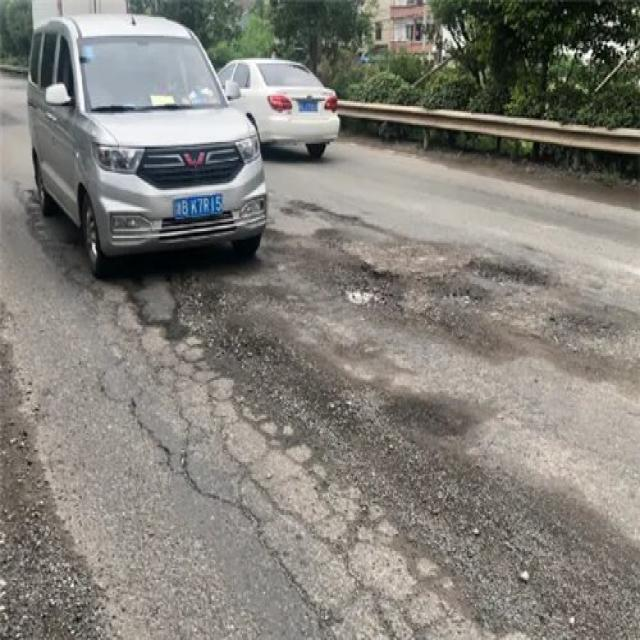Pothole: (170, 284, 293, 382), (359, 376, 485, 446), (454, 243, 546, 299), (315, 254, 394, 318)
